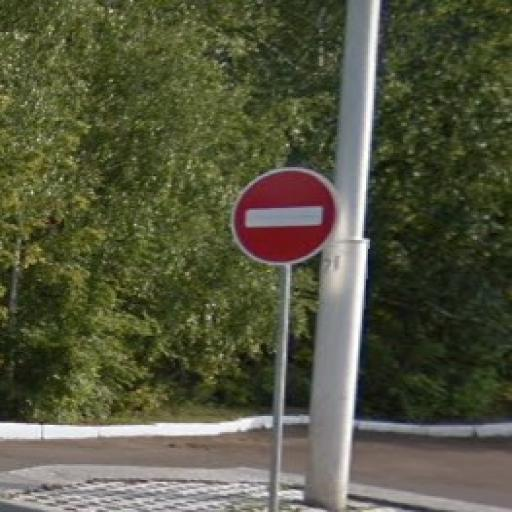traffic_sign: (231, 166, 342, 268)
